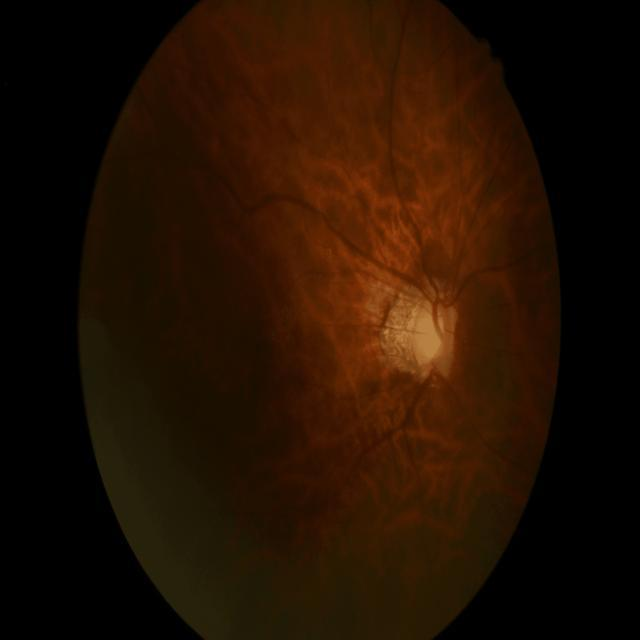cup: (414, 296, 448, 364)
disk: (411, 287, 458, 377)
